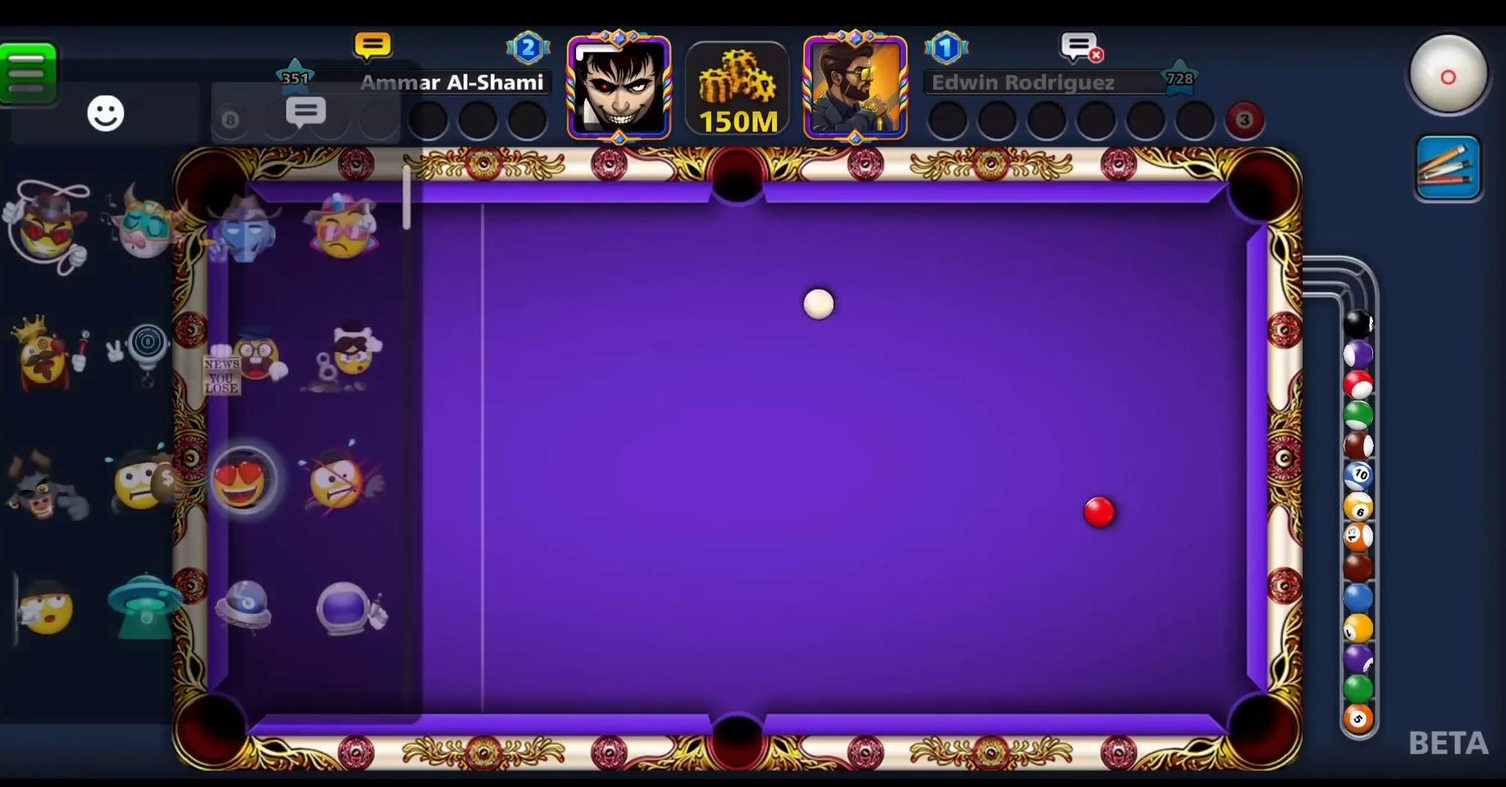Ball: (1080, 488, 1120, 534)
Hole: (1212, 679, 1308, 778), (1212, 141, 1306, 232), (169, 143, 255, 229), (172, 691, 258, 776), (692, 140, 779, 218), (698, 698, 780, 777)
Play_Area: (421, 201, 1244, 714)
Spin: (1401, 25, 1504, 127)
White: (795, 283, 843, 328)
